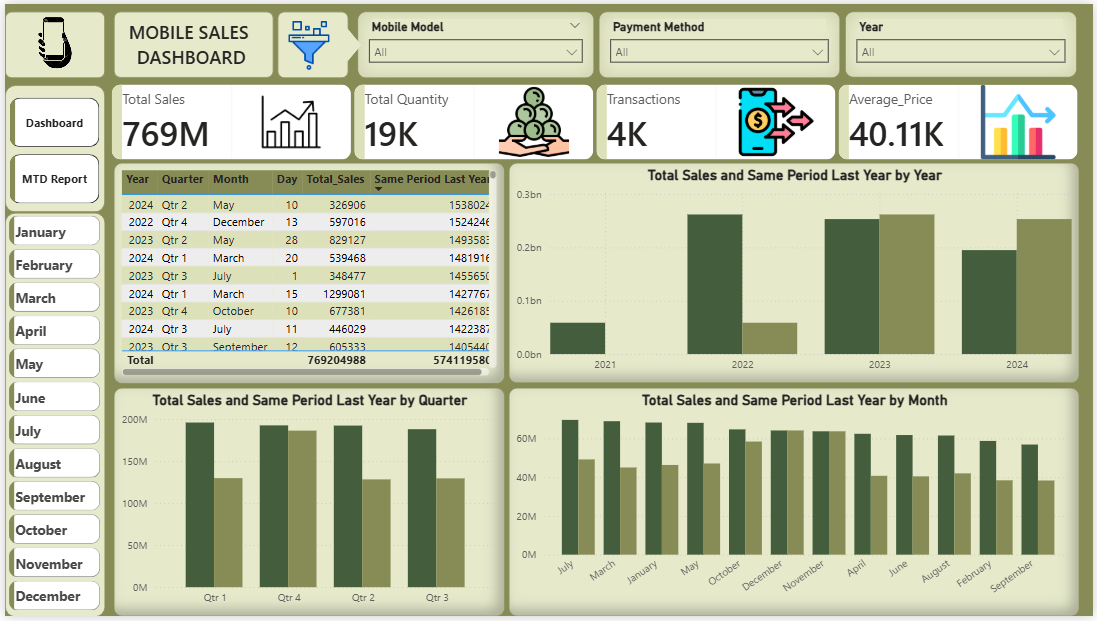

Layout of this report page (visuals, bound fields, positions):
{"tool":"powerbi","page":{"name":"Same Period Last Year","canvas":[1280,720],"ordinal":2},"visuals":[{"type":"shape","box":[0,8.9,117.7,78.5],"z":0},{"type":"image","box":[0,0,117.9,110.3],"z":1000},{"type":"shape","box":[0,94.9,117.7,149.4],"z":2000},{"type":"cardVisual","fields":{"Data":["Mobile Sales Data.Total_Sales","Mobile Sales Data.Total_Quantity","Mobile Sales Data.Transactions","Mobile Sales Data.Average_Price"]},"box":[108.9,78.5,1170.9,122.8],"z":3000},{"type":"slicer","fields":{"Values":["Mobile Sales Data.Mobile Model"]},"box":[415.3,8.7,278.7,78.7],"z":4000},{"type":"slicer","fields":{"Values":["Mobile Sales Data.Payment Method"]},"box":[698.7,8.7,284,78.7],"z":5000},{"type":"slicer","fields":{"Values":["Custom Calender.Date.Variation.Date Hierarchy.Year"]},"box":[987.7,9.2,273.1,77.7],"z":6000},{"type":"shape","box":[320.3,8.9,83.5,78.5],"z":7000},{"type":"image","box":[300,19,115.2,59.5],"z":8000},{"type":"shape","box":[384.8,27.8,34.2,40.5],"z":9000},{"type":"shape","box":[127.3,9.3,188,78],"z":10000},{"type":"textbox","box":[136.7,12.7,164.6,68.4],"z":11000},{"type":"shape","box":[0,244.9,117.9,475.6],"z":12000},{"type":"advancedSlicerVisual","fields":{"Values":["Custom Calender.Date.Variation.Date Hierarchy.Month"]},"box":[0,243.6,117.9,476.9],"z":13000},{"type":"tableEx","fields":{"Values":["Custom Calender.Date.Variation.Date Hierarchy.Year","Custom Calender.Date.Variation.Date Hierarchy.Quarter","Custom Calender.Date.Variation.Date Hierarchy.Month","Custom Calender.Date.Variation.Date Hierarchy.Day","Mobile Sales Data.Total_Sales","Mobile Sales Data.Same Period Last Year"]},"box":[127.3,187,459.7,259.7],"z":14000},{"type":"clusteredColumnChart","fields":{"Category":["Custom Calender.Date.Variation.Date Hierarchy.Year","Custom Calender.Date.Variation.Date Hierarchy.Quarter","Custom Calender.Date.Variation.Date Hierarchy.Month","Custom Calender.Date.Variation.Date Hierarchy.Day"],"Y":["Mobile Sales Data.Total_Sales","Mobile Sales Data.Same Period Last Year"]},"box":[592.1,187.1,671.4,259.3],"z":15000},{"type":"clusteredColumnChart","fields":{"Category":["Custom Calender.Date.Variation.Date Hierarchy.Year","Custom Calender.Date.Variation.Date Hierarchy.Quarter","Custom Calender.Date.Variation.Date Hierarchy.Month","Custom Calender.Date.Variation.Date Hierarchy.Day"],"Y":["Mobile Sales Data.Total_Sales","Mobile Sales Data.Same Period Last Year"]},"box":[127.3,451.9,459.7,268.8],"z":16000},{"type":"clusteredColumnChart","fields":{"Category":["Custom Calender.Date.Variation.Date Hierarchy.Year","Custom Calender.Date.Variation.Date Hierarchy.Quarter","Custom Calender.Date.Variation.Date Hierarchy.Month","Custom Calender.Date.Variation.Date Hierarchy.Day"],"Y":["Mobile Sales Data.Total_Sales","Mobile Sales Data.Same Period Last Year"]},"box":[592.1,452.1,671.4,268.6],"z":17000},{"type":"pageNavigator","box":[5.7,110,105.7,124.3],"z":18000}]}

Visuals, with their boxes in screenshot pixels (x1, y1, x2, y2), scaled from the page's 1280x720 canvas onto the 1097x621 screenshot:
shape: <bbox>0, 8, 101, 75</bbox>
image: <bbox>0, 0, 101, 95</bbox>
shape: <bbox>0, 82, 101, 211</bbox>
cardVisual - Mobile Sales Data.Total_Sales x Mobile Sales Data.Total_Quantity: <bbox>93, 68, 1096, 174</bbox>
slicer - Mobile Sales Data.Mobile Model: <bbox>356, 8, 595, 75</bbox>
slicer - Mobile Sales Data.Payment Method: <bbox>599, 8, 842, 75</bbox>
slicer - Custom Calender.Date.Variation.Date Hierarchy.Year: <bbox>846, 8, 1081, 75</bbox>
shape: <bbox>275, 8, 346, 75</bbox>
image: <bbox>257, 16, 356, 68</bbox>
shape: <bbox>330, 24, 359, 59</bbox>
shape: <bbox>109, 8, 270, 75</bbox>
textbox: <bbox>117, 11, 258, 70</bbox>
shape: <bbox>0, 211, 101, 620</bbox>
advancedSlicerVisual - Custom Calender.Date.Variation.Date Hierarchy.Month: <bbox>0, 210, 101, 620</bbox>
tableEx - Custom Calender.Date.Variation.Date Hierarchy.Year x Custom Calender.Date.Variation.Date Hierarchy.Quarter: <bbox>109, 161, 503, 385</bbox>
clusteredColumnChart - Custom Calender.Date.Variation.Date Hierarchy.Year x Custom Calender.Date.Variation.Date Hierarchy.Quarter: <bbox>507, 161, 1083, 385</bbox>
clusteredColumnChart - Custom Calender.Date.Variation.Date Hierarchy.Year x Custom Calender.Date.Variation.Date Hierarchy.Quarter: <bbox>109, 390, 503, 620</bbox>
clusteredColumnChart - Custom Calender.Date.Variation.Date Hierarchy.Year x Custom Calender.Date.Variation.Date Hierarchy.Quarter: <bbox>507, 390, 1083, 620</bbox>
pageNavigator: <bbox>5, 95, 95, 202</bbox>
